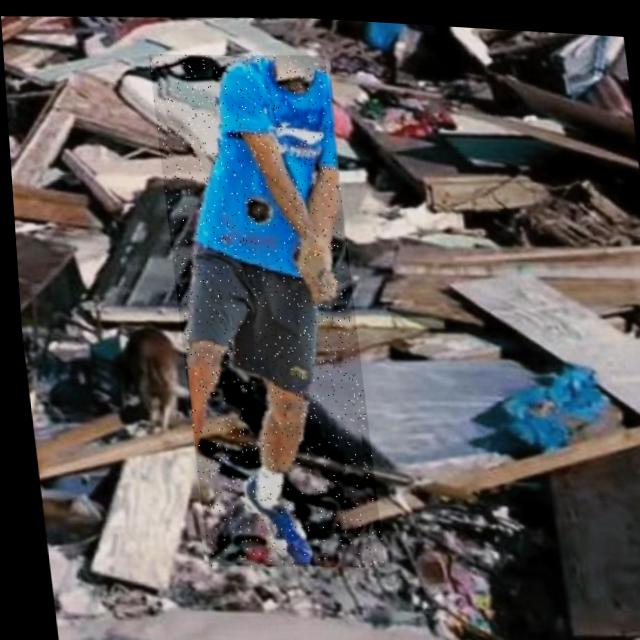Person in Rubble: (147, 43, 378, 573)
